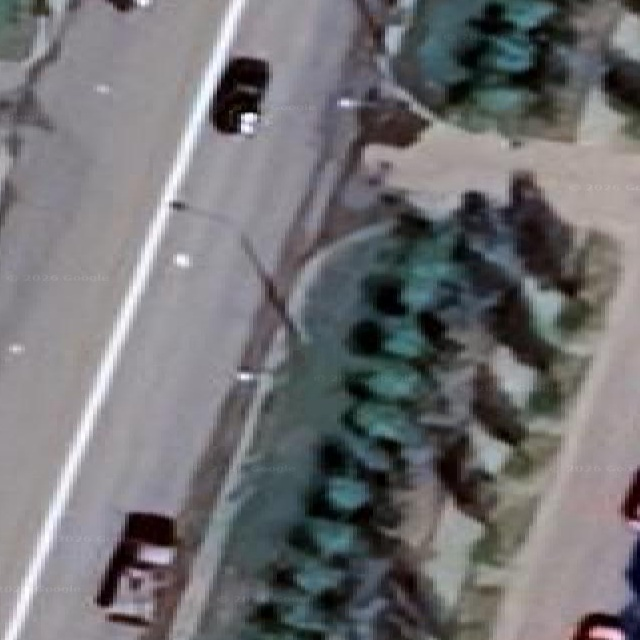car: (96, 512, 177, 625), (211, 57, 269, 135), (572, 613, 626, 639), (621, 468, 639, 532), (625, 539, 639, 598), (108, 0, 153, 11)
